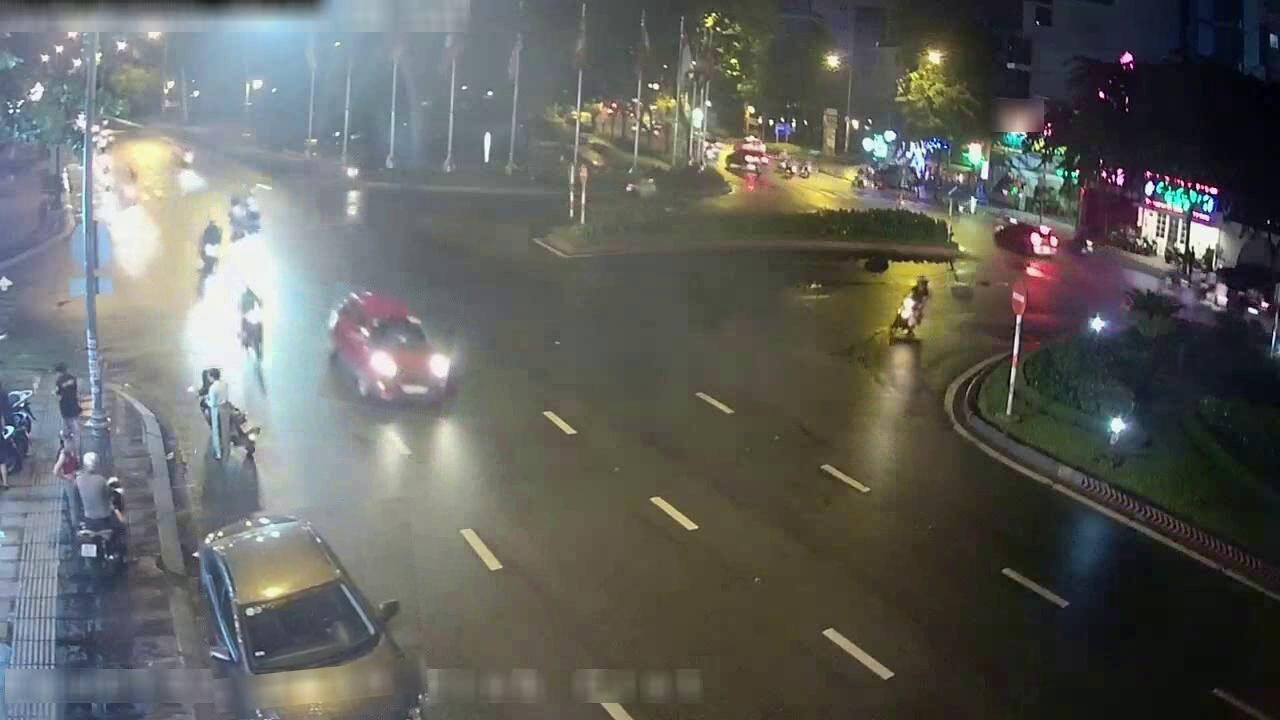Car: (197, 515, 421, 719), (328, 291, 453, 402), (725, 139, 768, 174), (864, 256, 889, 273)
Motorcycle: (3, 389, 33, 461), (889, 302, 918, 342)
Motorcyclist: (73, 452, 127, 572), (239, 286, 263, 359), (198, 219, 222, 275), (330, 159, 361, 186), (227, 193, 245, 238), (242, 192, 260, 232), (120, 165, 137, 205), (612, 179, 639, 201), (171, 144, 193, 169)
Pedestrian: (202, 366, 228, 460), (54, 362, 81, 444)
Sign: (1010, 284, 1026, 315)
